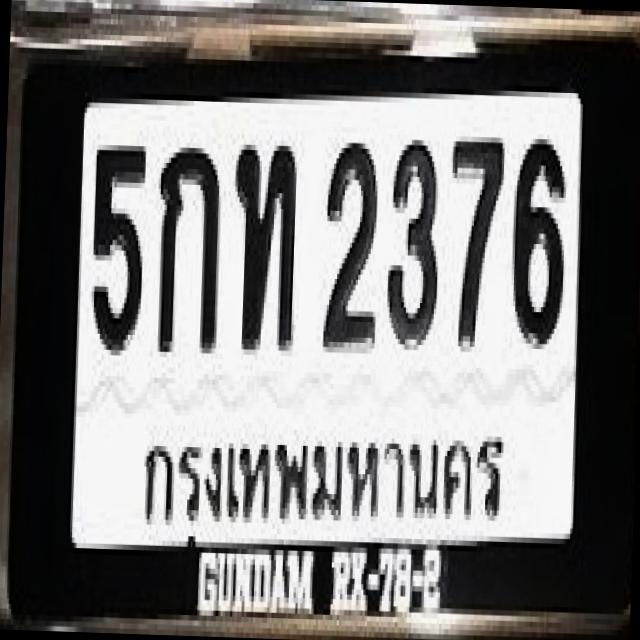license_plate: (6, 14, 640, 623)
